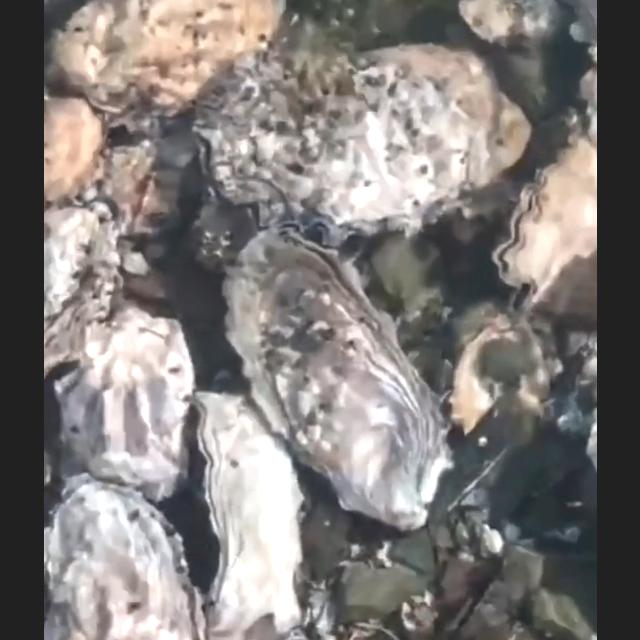Oyster-Closed: (43, 0, 287, 142), (52, 305, 196, 507), (187, 392, 303, 640), (43, 474, 205, 640), (43, 205, 121, 377), (44, 93, 104, 201), (456, 0, 562, 52)
Oyster-Open: (190, 44, 532, 255), (221, 227, 453, 535), (487, 132, 597, 326)
